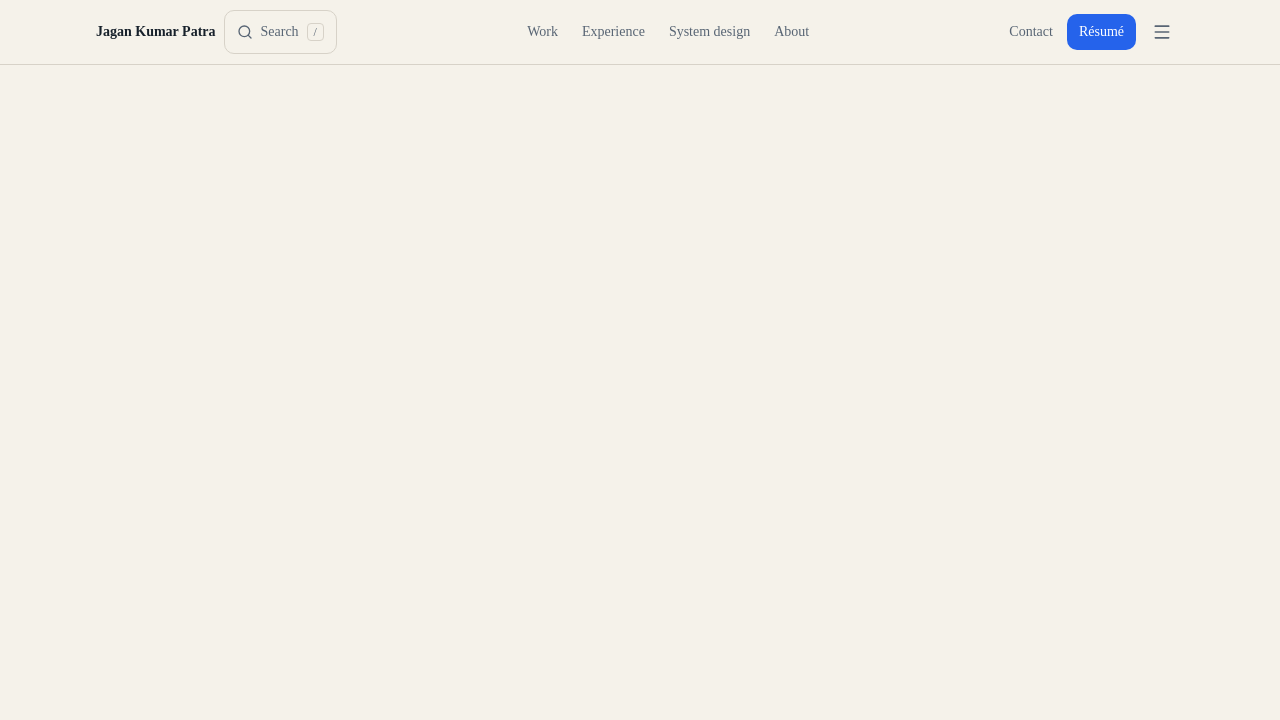
it: Header mobile menu › closes the menu with Escape
Click the button named "open menu" at coordinates (1162, 32), box [1140, 10, 1184, 54]
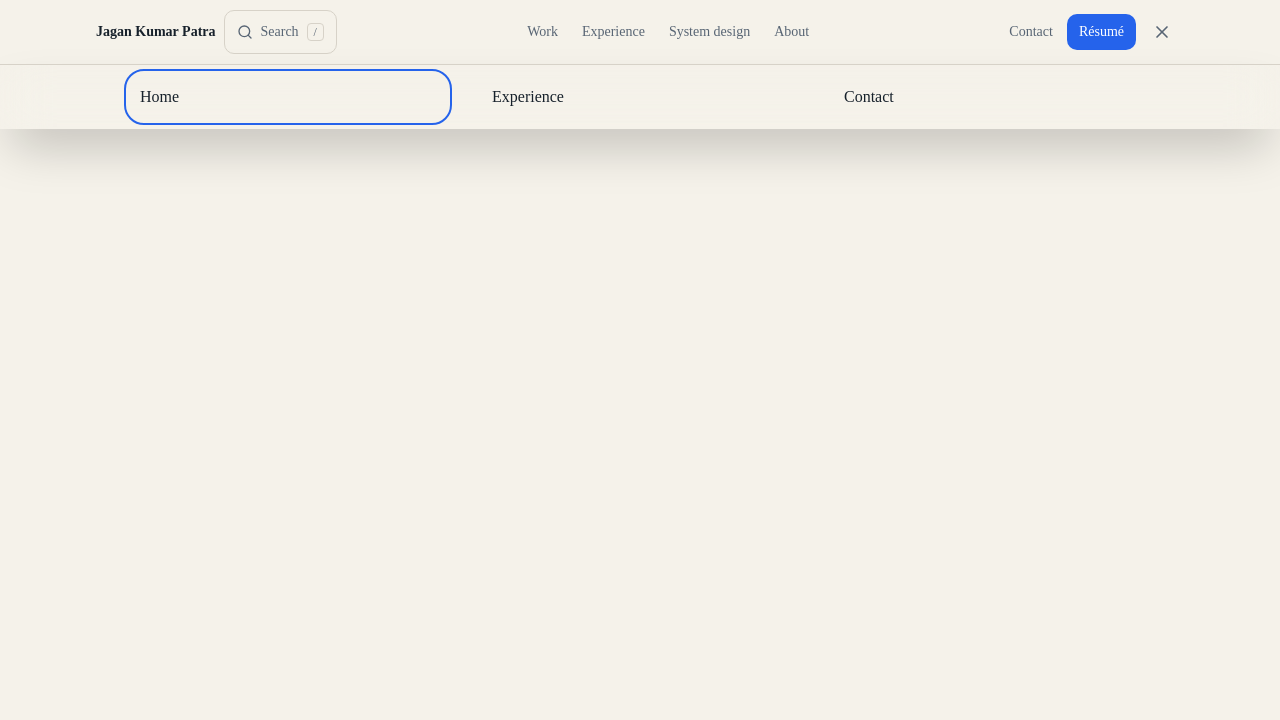
Press Escape
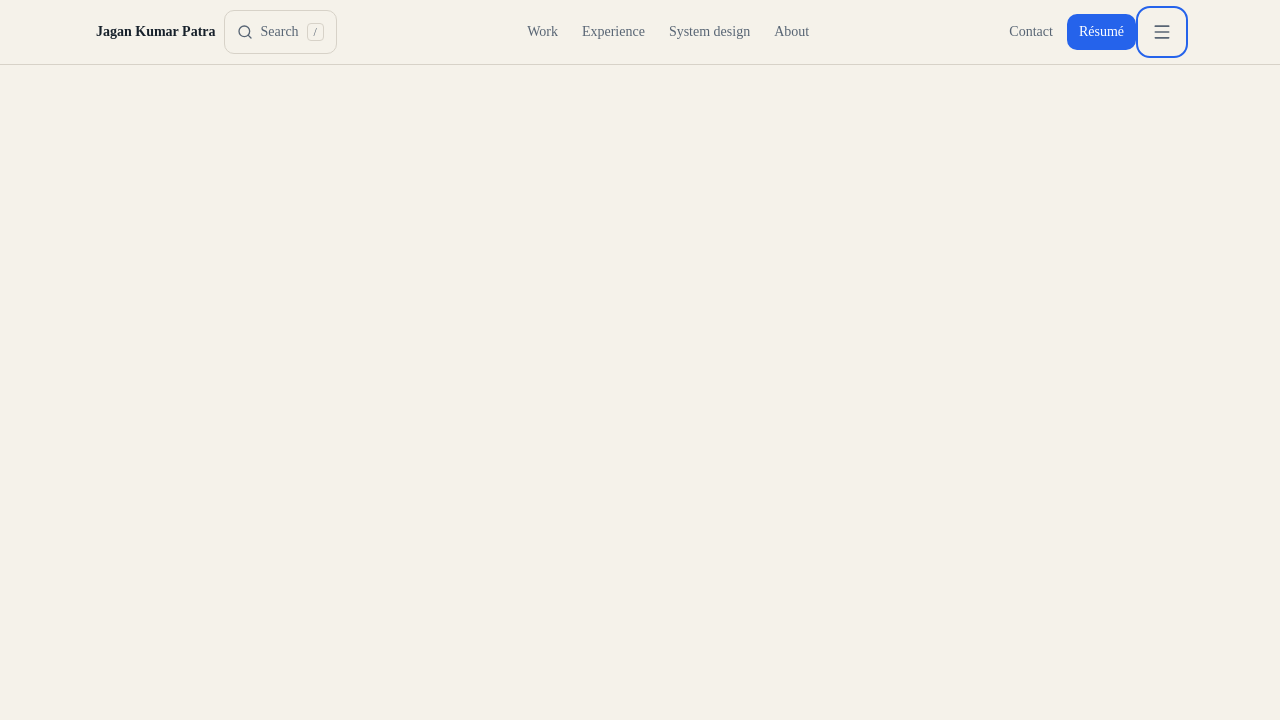
Now the dialog "Menu" is gone
